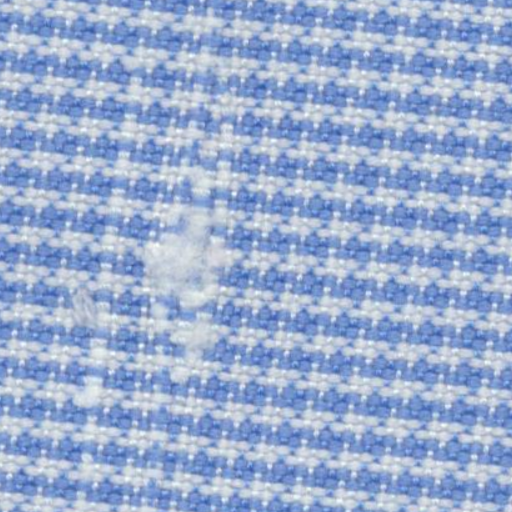MianQiu: (148, 224, 214, 303)
